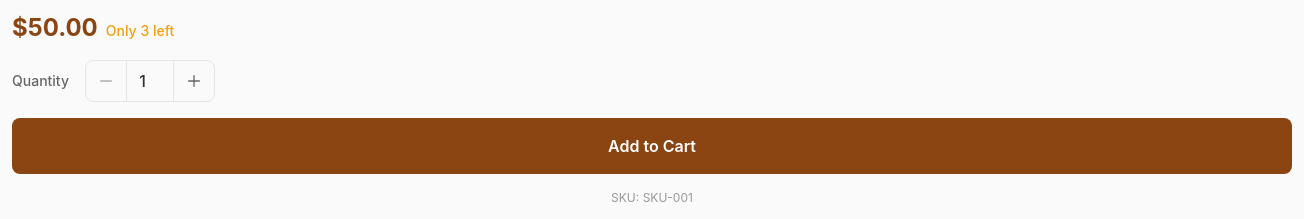
AddToCart › inventory quantity validation › limits quantity to available inventory
Expected: the number field holds "1", [126,61,174,101]
Note: Click increment to 2
Step 1. Click the button named "Increase quantity" → (194, 81), box [174,61,214,101]
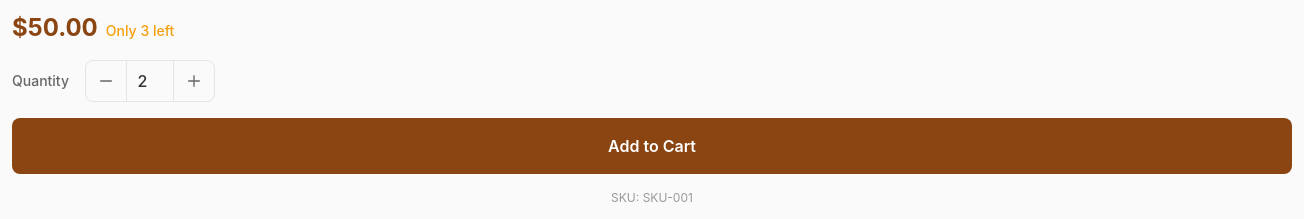
Now the number field holds "2", box [126,61,174,101]
Note: Click increment to 3
Step 2. Click the button named "Increase quantity" → (194, 81), box [174,61,214,101]
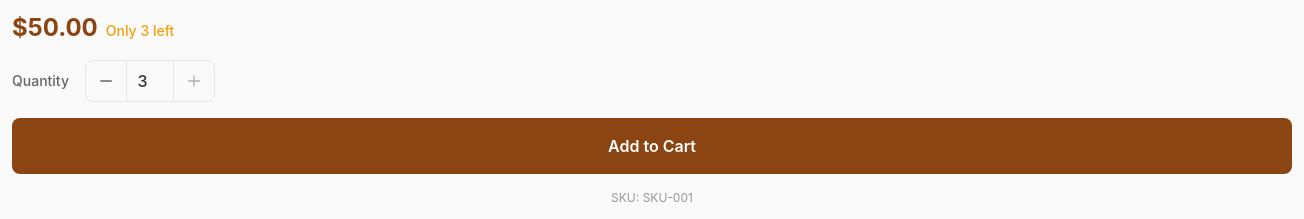
Now the number field holds "3", box [126,61,174,101]
Now the button named "Increase quantity" is disabled, box [174,61,214,101]
